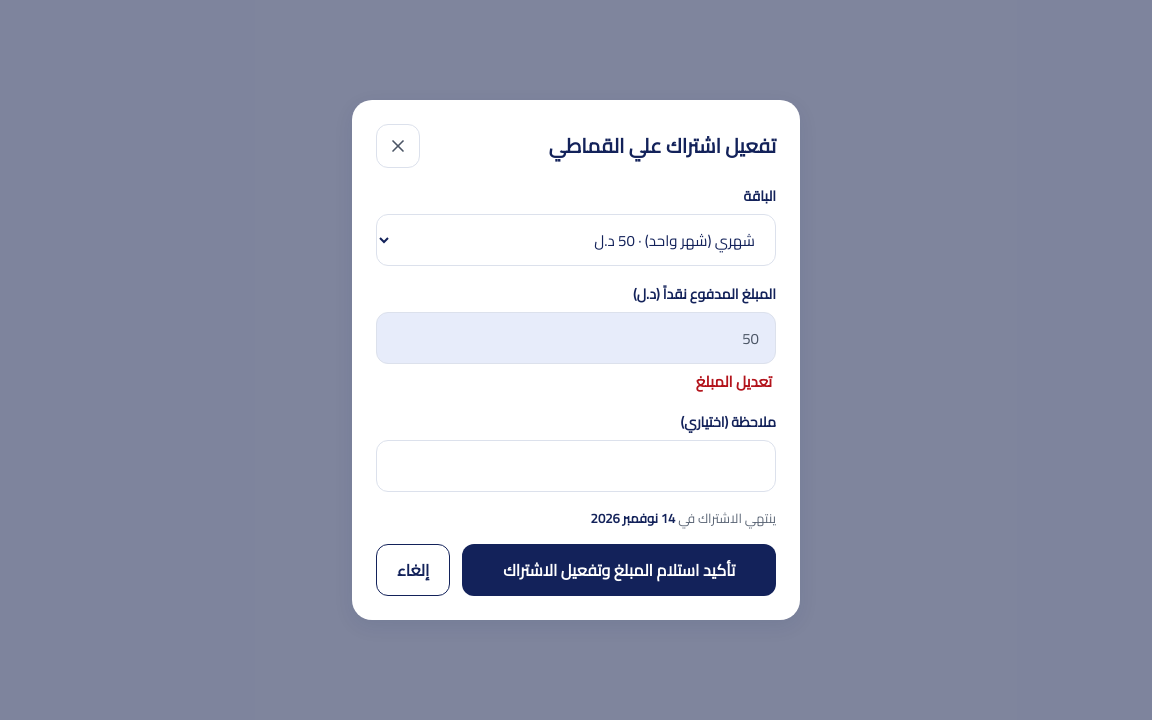
Test case: ActivateDialog › shows override_reason_required in Arabic and keeps the dialog open
The width and height of the screenshot is (1152, 720).
Expected: the number field labelled "المبلغ المدفوع نقداً (د.ل)" holds "50", [376,312,776,364]
Click the button "تأكيد استلام المبلغ وتفعيل الاشتراك".
click(619, 570)  # box [462,544,776,596]
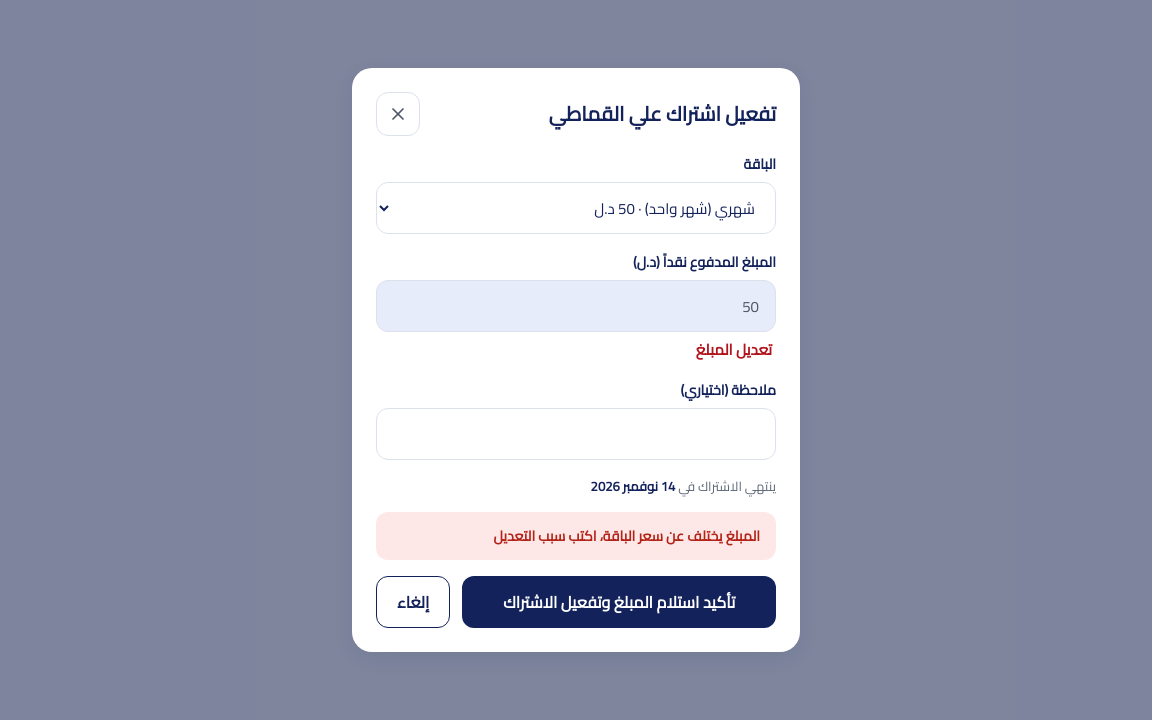
Result: the message reads "المبلغ يختلف عن سعر الباقة، اكتب سبب التعديل" at [494,523,760,549]
